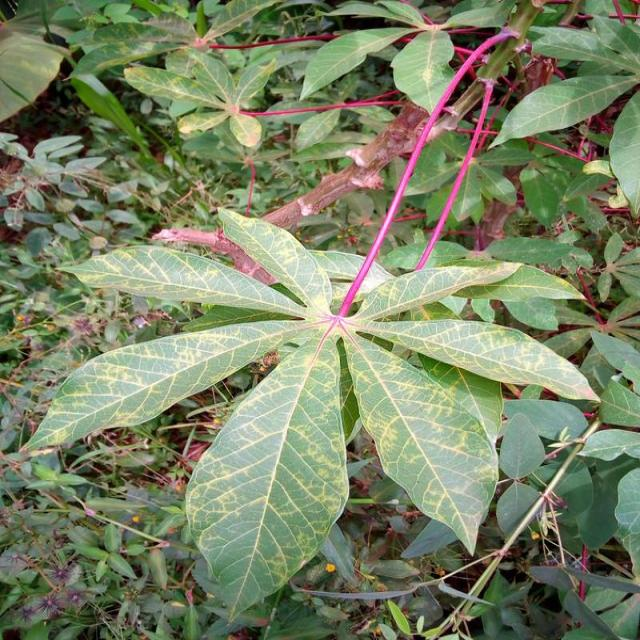cassava leaf: (19, 205, 598, 624), (183, 330, 350, 624)
